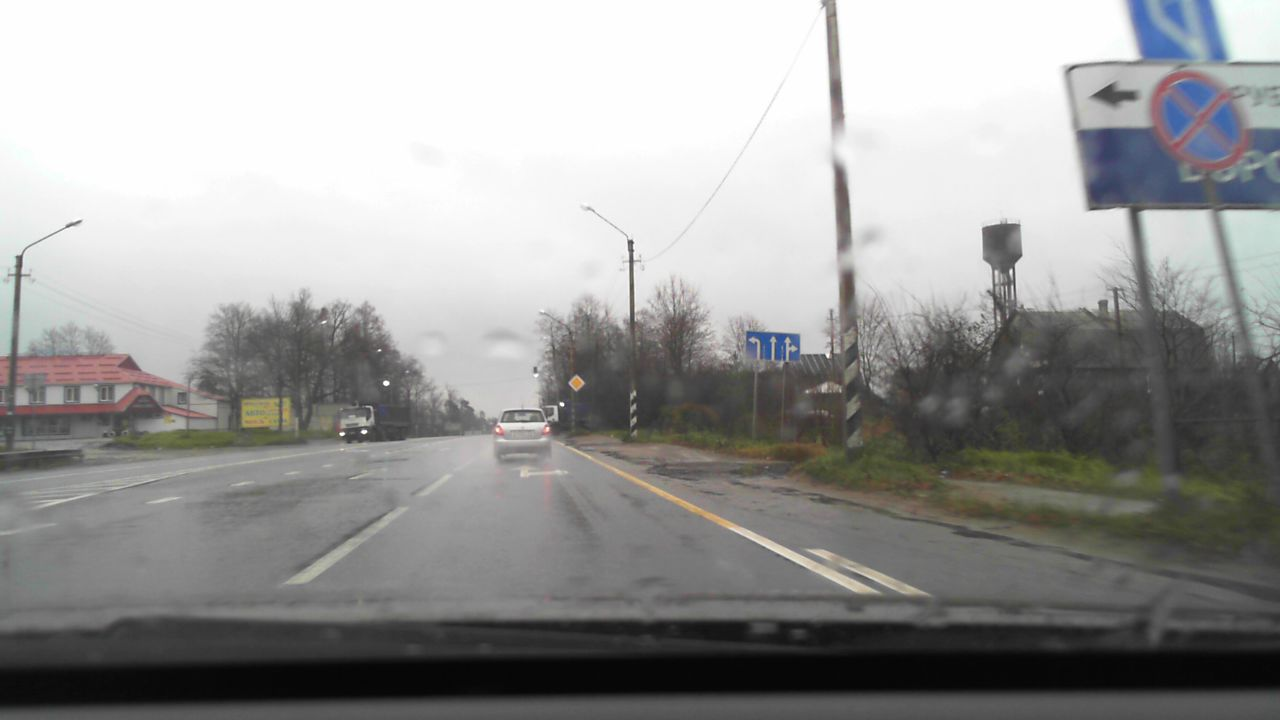No Parking: (1153, 70, 1245, 167)
